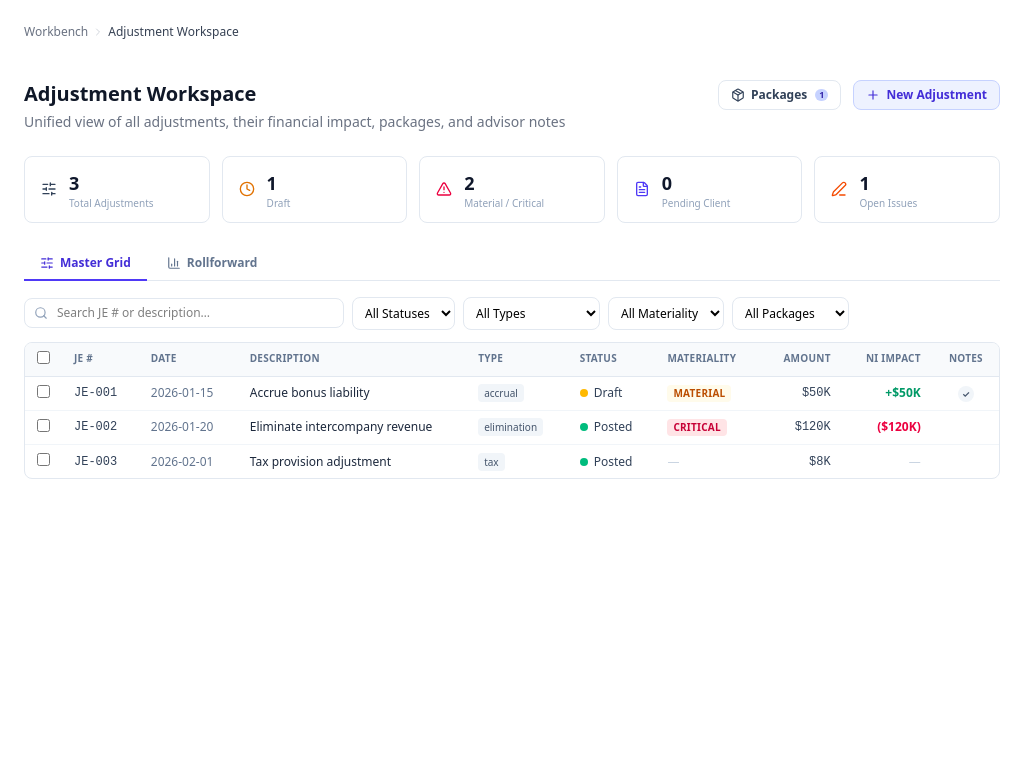
Test: AdjustmentWorkspacePage — Sprint 3.6 › opens impact drawer when row clicked
Step 1. Click the row with test id "adj-row-1" → (512, 393), box [25,376,999,410]
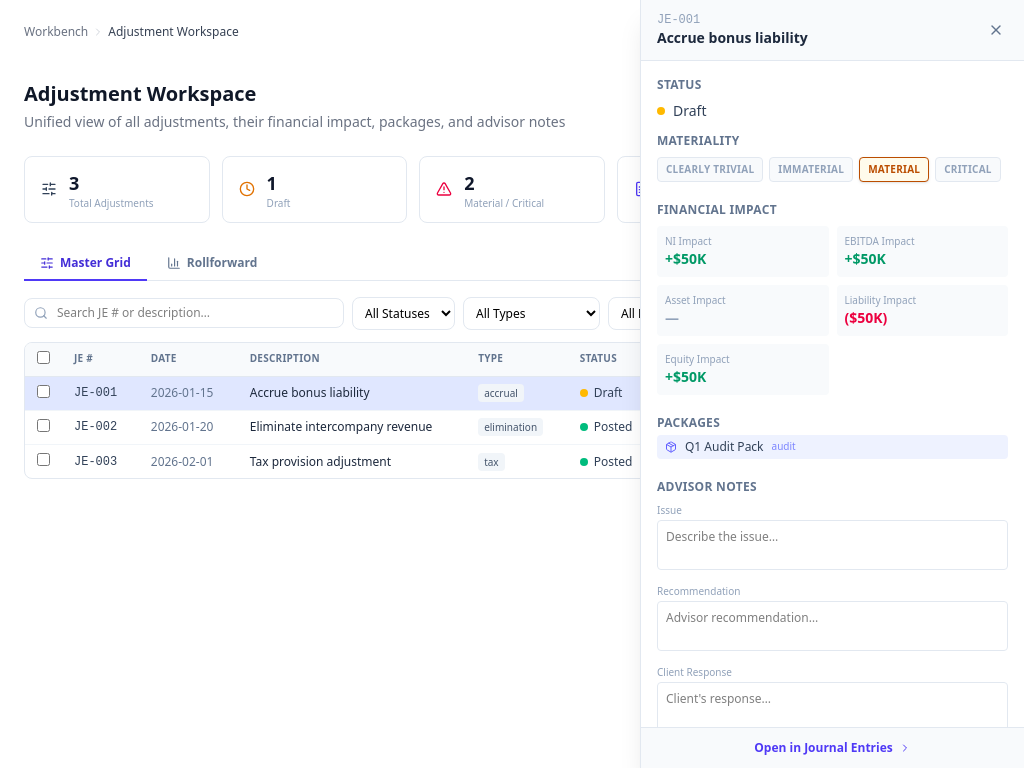
Now the element with test id "impact-drawer" is shown, box [640,0,1023,767]
